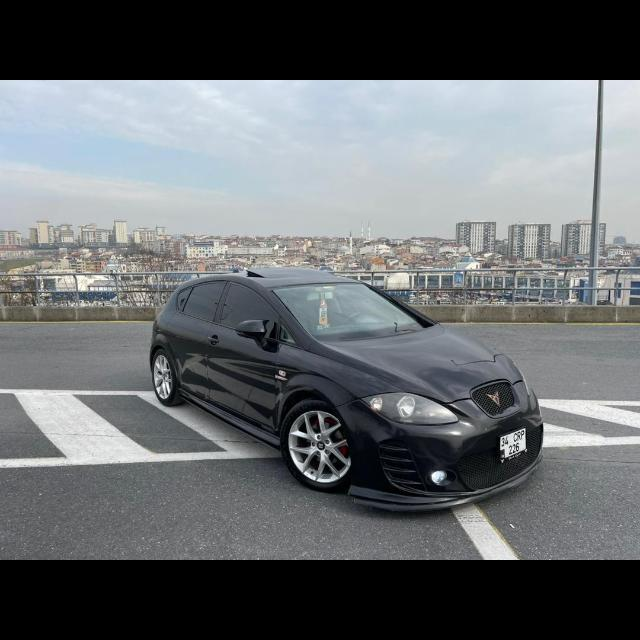Plaka: (503, 428, 527, 459)
